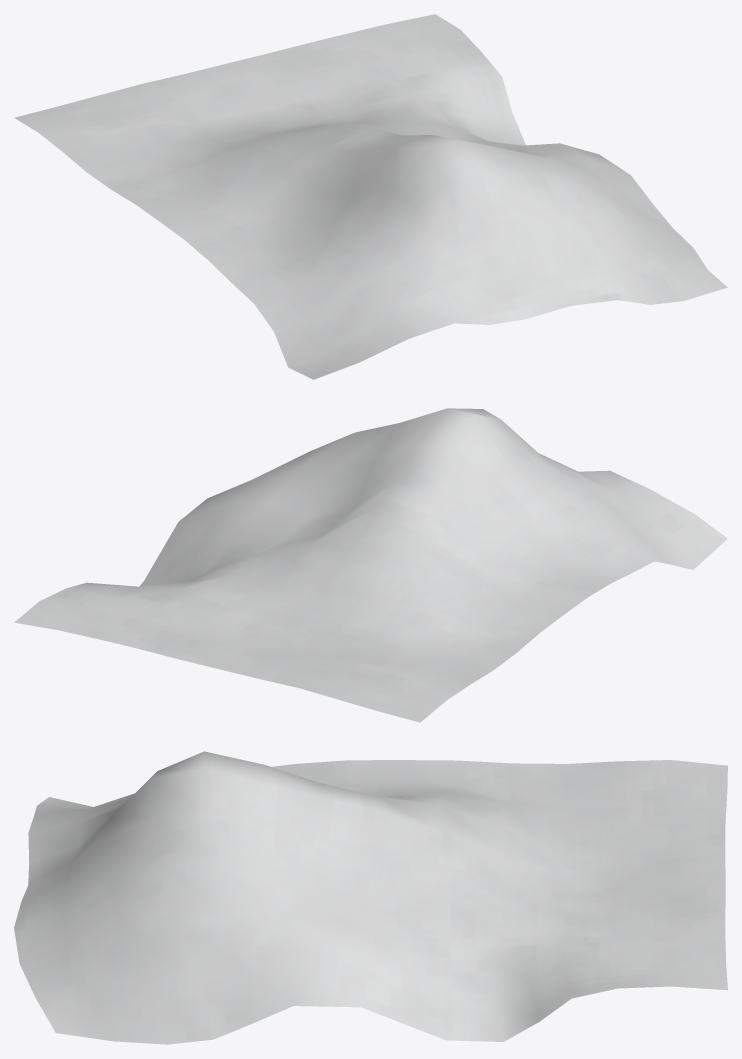
File: snow_dummy_3.fbx
3 renders of one model, top to bottom at view 1: azimuth 30°, elevation 25°; view 2: azimuth 150°, elevation 25°; view 3: azimuth 270°, elevation 25°, orthographic. The views are drawn at different scales.
Visible parts, largest first — view 1: snow_dummy_2; view 2: snow_dummy_2; view 3: snow_dummy_2.
Part boxes in pixels (x1,y1,x2,y2): snow_dummy_2: [14, 14, 727, 379]; snow_dummy_2: [14, 408, 727, 722]; snow_dummy_2: [14, 751, 727, 1044].
Size of the model in its own units: 361 by 468 by 121.
